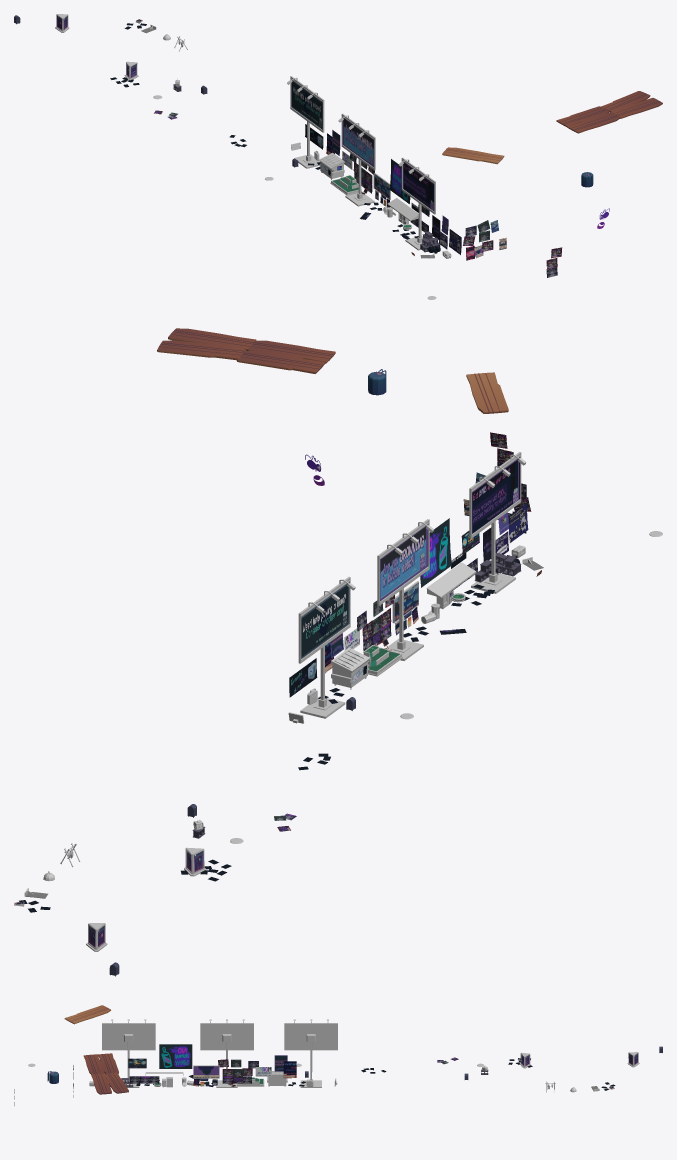
File: DBBillboardsandPosters.fbx
3 views of the same model, one above another, from view 1: azimuth 30°, elevation 25°; view 2: azimuth 150°, elevation 25°; view 3: azimuth 270°, elevation 25° (orthographic). The views are drawn at different scales.
Parts seen in each view (by area): view 1: Poster.156, planks.009, Billboard.002, Billboard.001, Billboard.013, planks.006; view 2: Poster.156, planks.009, Billboard.001, Billboard.013, Billboard.002, planks.006; view 3: Poster.156, Billboard.001, Billboard.002, Billboard.013, planks.009, planks.006, Poster.154, Dumpster.009.
Boxes of the visible parts, x1,y1,x2,y2 form: Poster.156: (305,124,562,277); planks.009: (556,91,662,133); Billboard.002: (338,113,375,206); Billboard.001: (287,76,324,168); Billboard.013: (398,157,435,250); planks.006: (442,147,504,164); Poster.156: (289,432,531,697); planks.009: (157,328,335,373); Billboard.001: (298,576,355,718); Billboard.013: (469,452,526,593); Billboard.002: (377,519,434,660); planks.006: (466,372,508,413); Poster.156: (14,1044,296,1105); Billboard.001: (284,1019,337,1087); Billboard.002: (200,1019,253,1087); Billboard.013: (102,1019,155,1087); planks.009: (83,1053,128,1094); planks.006: (64,1005,110,1024); Poster.154: (129,1076,159,1083); Dumpster.009: (267,1074,287,1086).
Bounding box in the file's own units: 9217 × 2897 × 20770.
